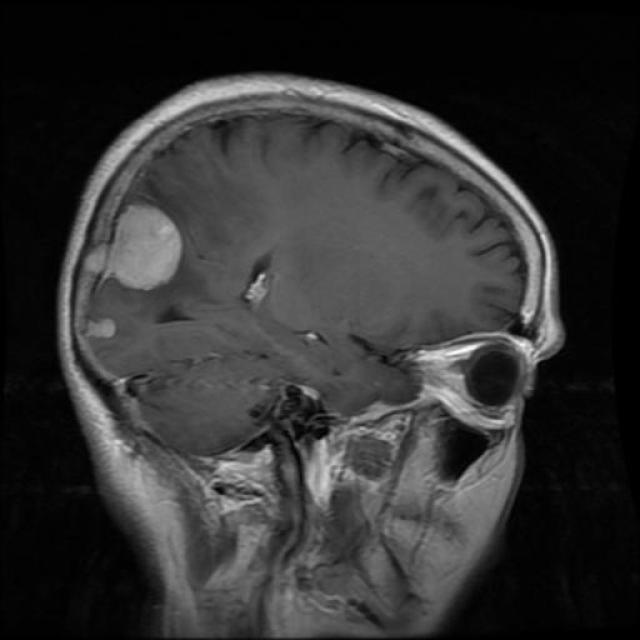meningioma: (110, 205, 182, 292)
